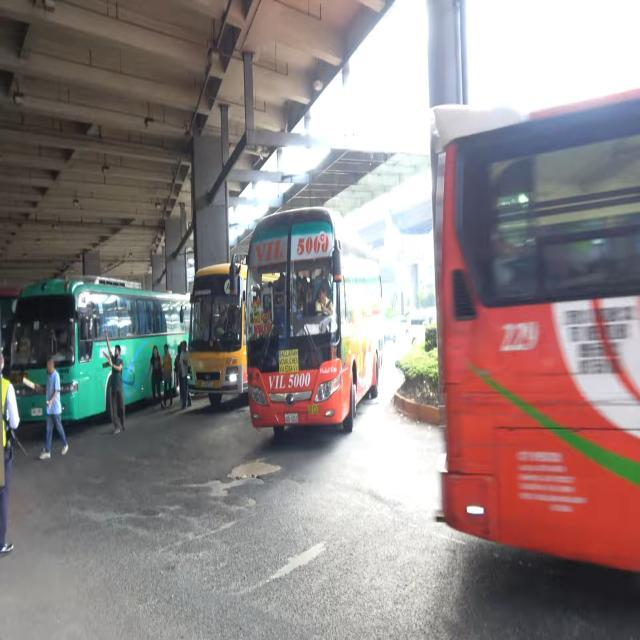bus: (423, 90, 640, 570), (240, 206, 384, 440), (10, 276, 194, 420), (188, 258, 254, 404)
